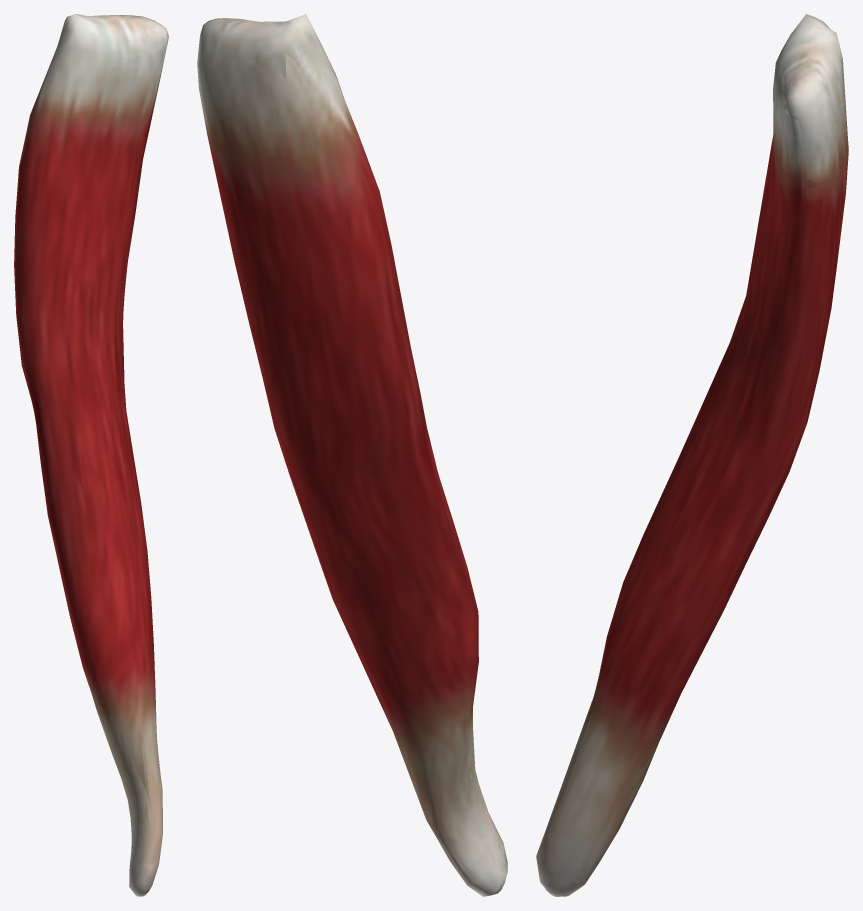
File: R Semitendinosus.fbx
3 views of the same model, side by side, from view 1: azimuth 30°, elevation 25°; view 2: azimuth 150°, elevation 25°; view 3: azimuth 270°, elevation 25° (orthographic). The views are drawn at different scales.
Parts seen in each view (by area): view 1: R Semitendinosus, R Semitendinosus low, R Semitendinosus high; view 2: R Semitendinosus, R Semitendinosus low, R Semitendinosus high; view 3: R Semitendinosus, R Semitendinosus low, R Semitendinosus high.
Part boxes in pixels (bbox=[...]): R Semitendinosus: bbox=[14, 14, 168, 896]; R Semitendinosus low: bbox=[17, 14, 168, 892]; R Semitendinosus high: bbox=[21, 16, 166, 894]; R Semitendinosus: bbox=[197, 14, 507, 896]; R Semitendinosus low: bbox=[197, 14, 507, 895]; R Semitendinosus high: bbox=[199, 21, 504, 890]; R Semitendinosus: bbox=[536, 15, 848, 896]; R Semitendinosus low: bbox=[536, 14, 848, 896]; R Semitendinosus high: bbox=[541, 26, 845, 894].
Size of the model in its own units: 2.46 by 11.59 by 3.62.
1 material, 1 textured.
